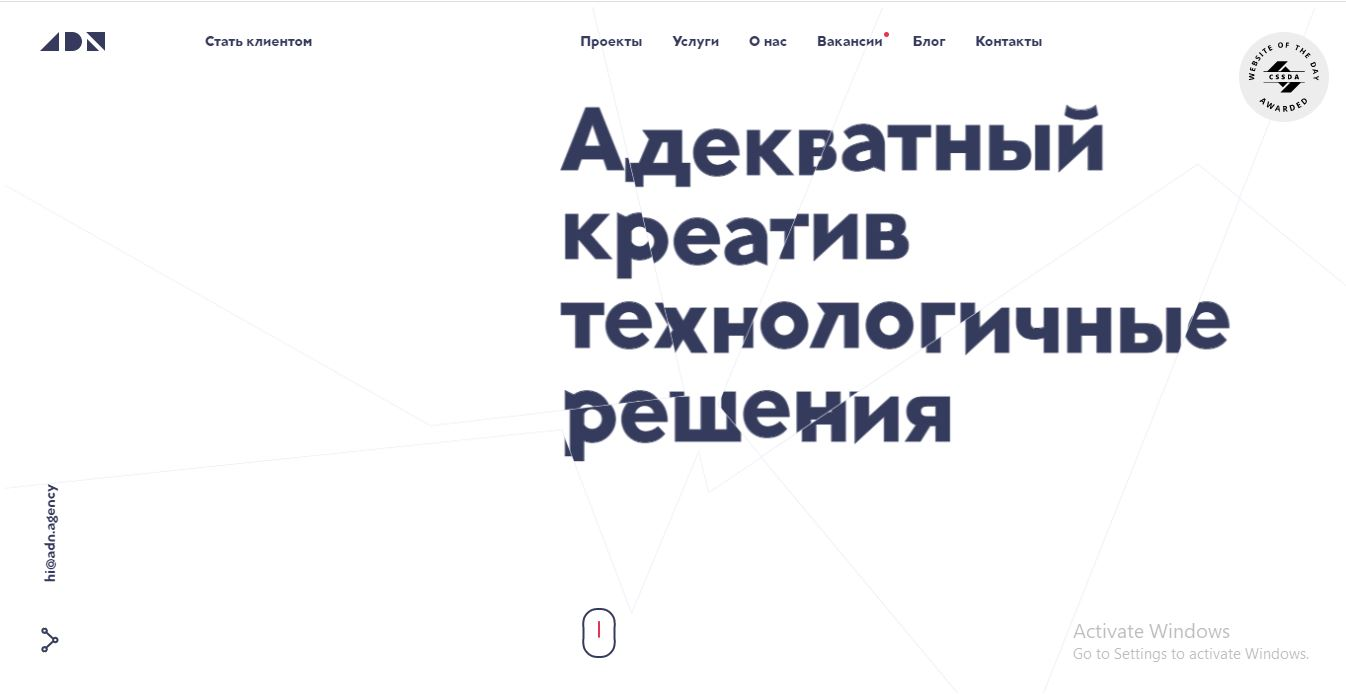Menu Bar: (556, 13, 1062, 69)
